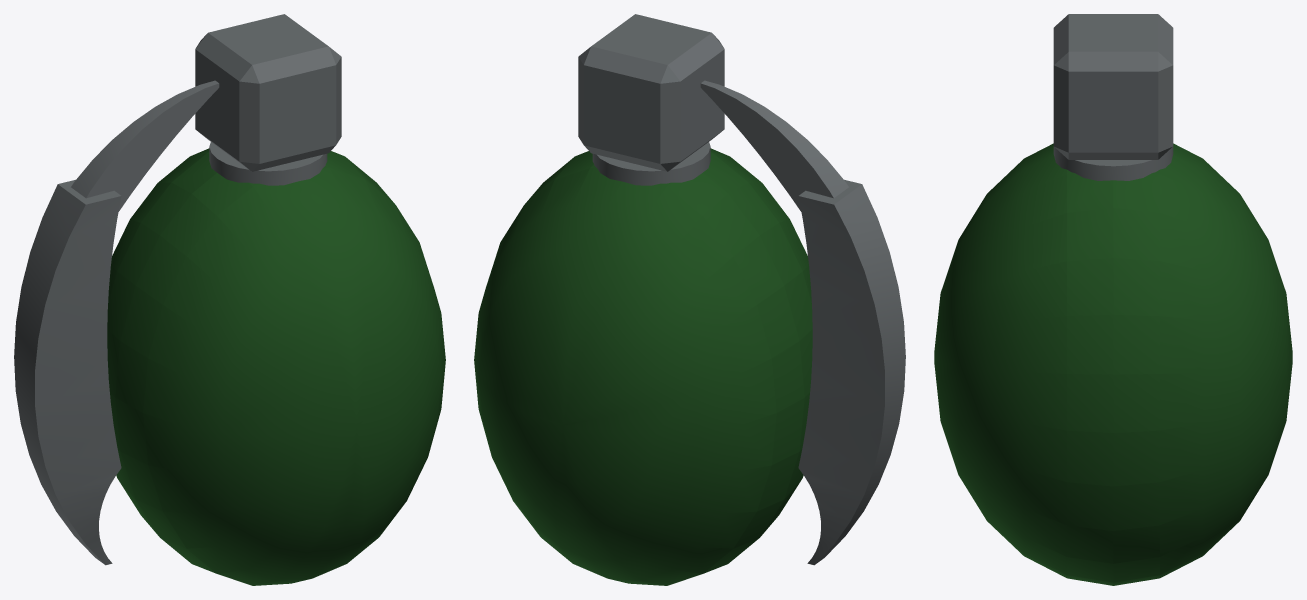
File: Grenade.model.fbx
The picture shows the model from 3 angles, left to right: view 1: azimuth 30°, elevation 25°; view 2: azimuth 150°, elevation 25°; view 3: azimuth 270°, elevation 25°; orthographic projection.
Visible parts, largest first — view 1: sphere_full_0, blade_scimitar_4, block_rounded_2, blade_bend_5, cylinder_full_1; view 2: sphere_full_0, blade_scimitar_4, block_rounded_2, blade_bend_5, cylinder_full_1; view 3: sphere_full_0, block_rounded_2, cylinder_full_1.
Boxes of the visible parts, left/top/right/bottom form: sphere_full_0: left=107, top=148, right=445, bottom=585; blade_scimitar_4: left=14, top=179, right=121, bottom=565; block_rounded_2: left=195, top=14, right=341, bottom=171; blade_bend_5: left=71, top=80, right=219, bottom=211; cylinder_full_1: left=209, top=142, right=327, bottom=185; sphere_full_0: left=474, top=148, right=812, bottom=585; blade_scimitar_4: left=798, top=179, right=905, bottom=565; block_rounded_2: left=578, top=14, right=724, bottom=171; blade_bend_5: left=700, top=80, right=848, bottom=211; cylinder_full_1: left=592, top=142, right=710, bottom=185; sphere_full_0: left=934, top=143, right=1292, bottom=585; block_rounded_2: left=1053, top=14, right=1173, bottom=159; cylinder_full_1: left=1053, top=146, right=1173, bottom=180.
Bounding box in the file's own units: 7.78 × 10 × 6.
